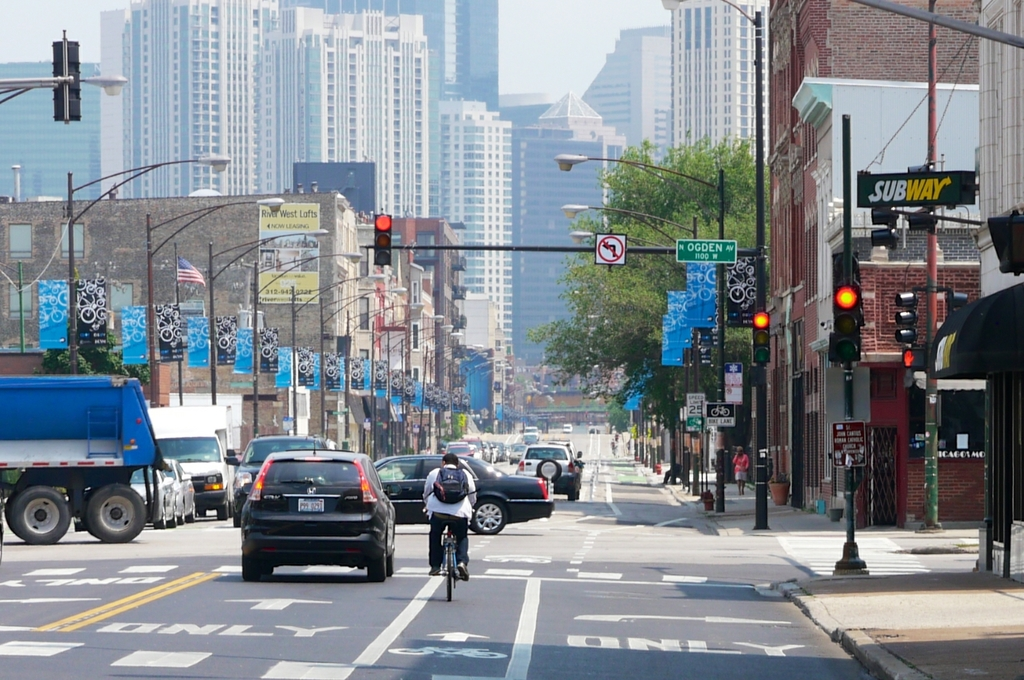red_light: (835, 288, 863, 360), (373, 215, 392, 265), (752, 312, 770, 361)
